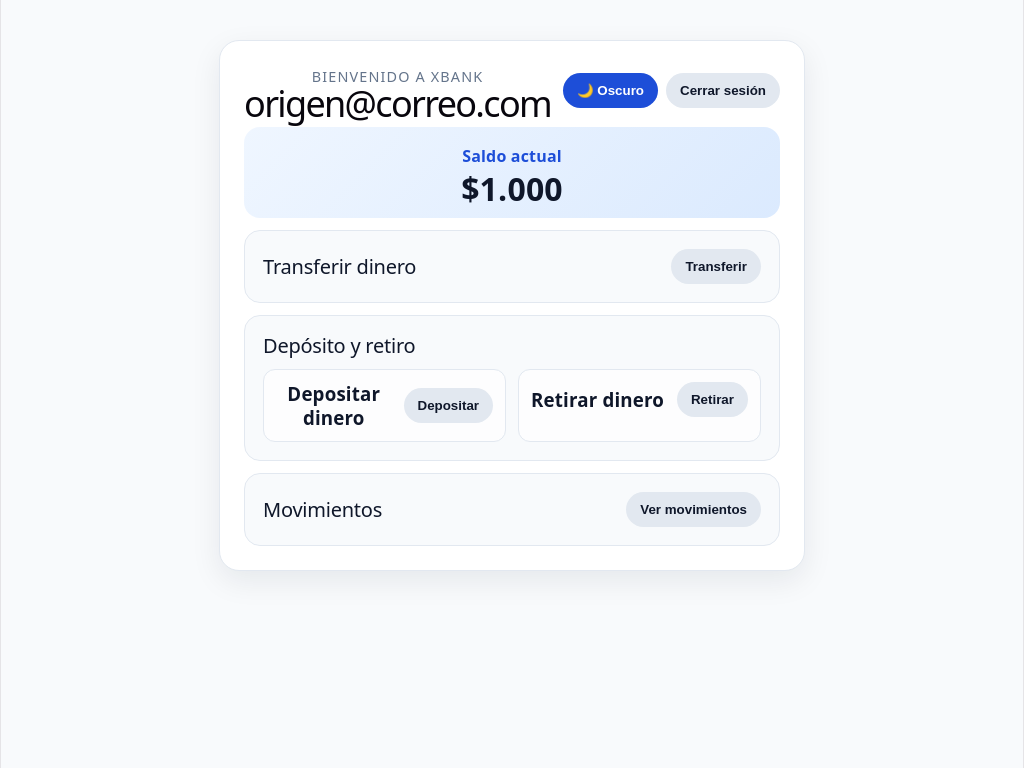
Scenario: Operaciones bancarias › muestra error en retiro cuando el monto supera el saldo disponible
Click the button "Retirar" at (712, 400), box [677,382,748,417]
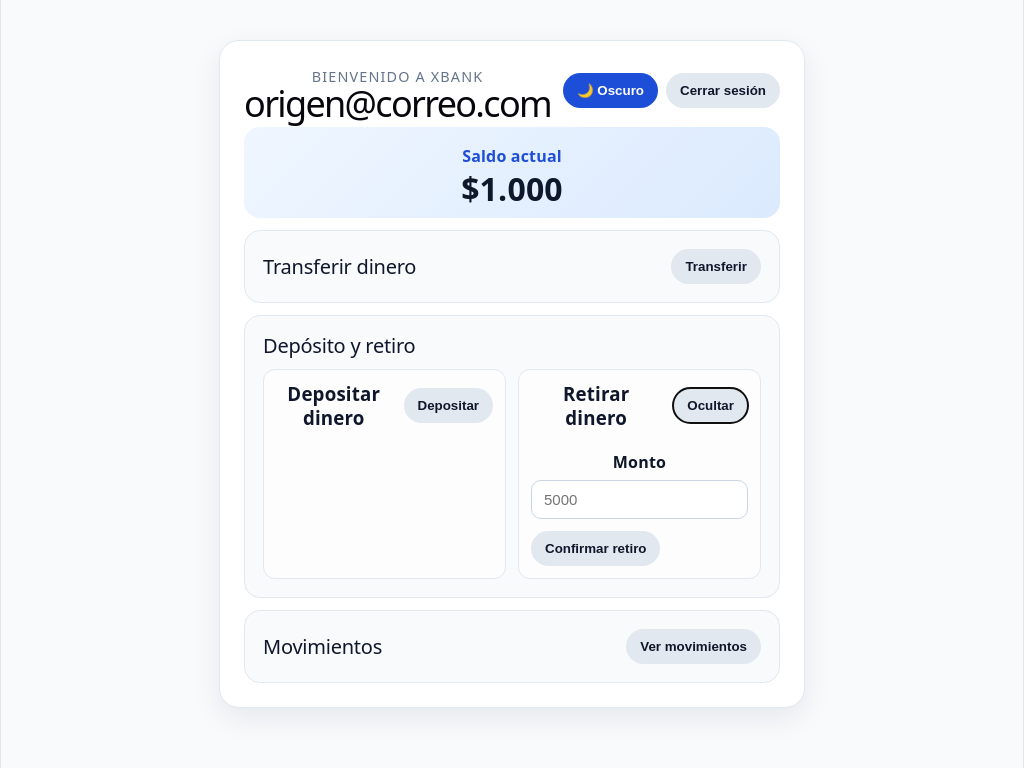
Type "1500" into the number field labelled "Monto" at (640, 500), box [531,480,748,519]
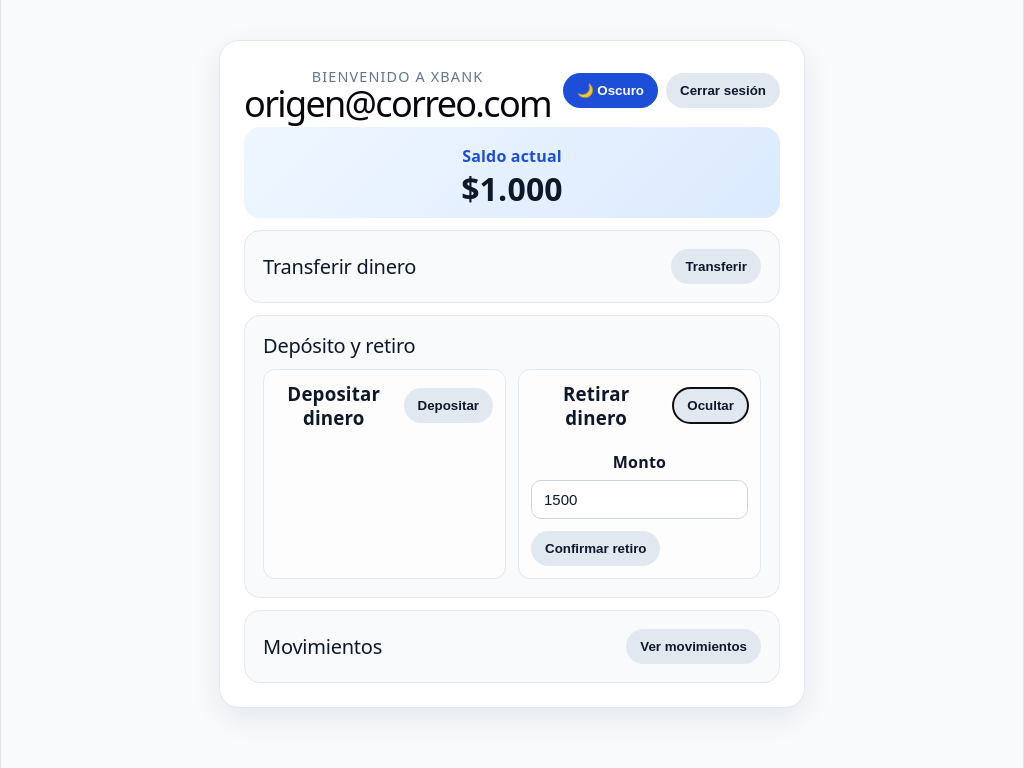
Click the button "Confirmar retiro" at (596, 548), box [531,531,660,566]
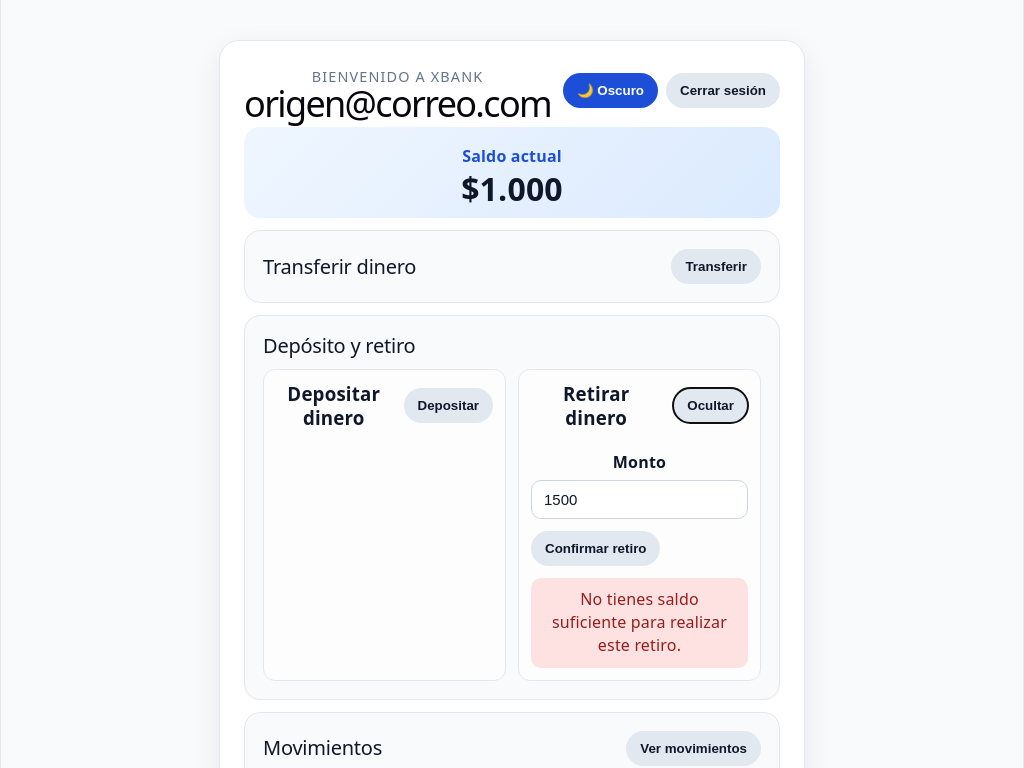
Now the text "No tienes saldo suficiente para realizar este retiro." is shown, box [531,578,748,668]
